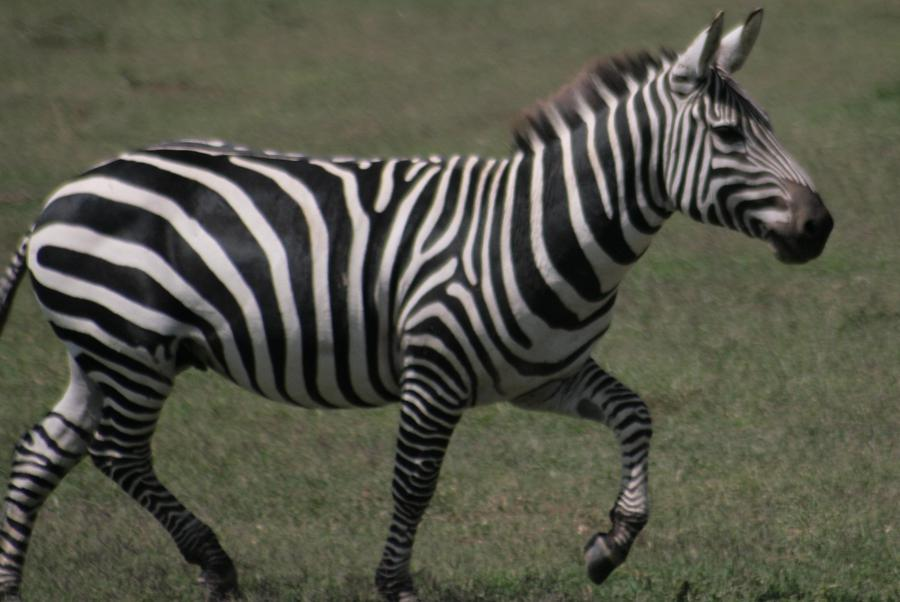zebra_plains: (48, 140, 568, 384)
